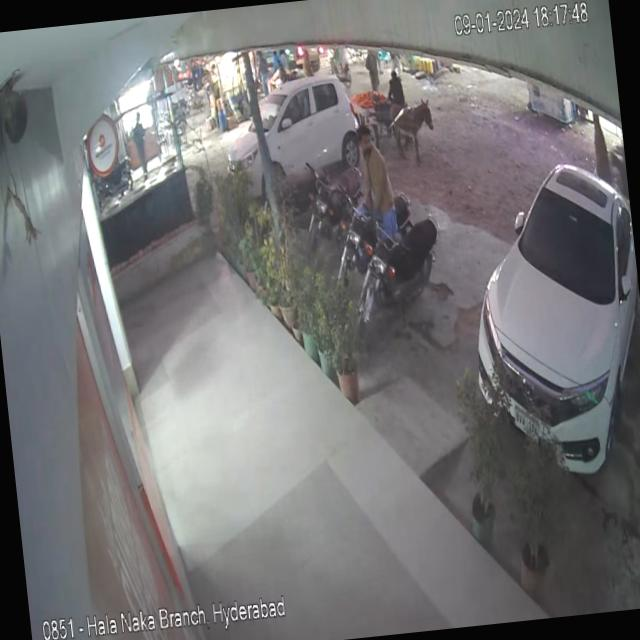Car: (450, 114, 640, 496), (198, 59, 368, 191)
Motorcycle: (340, 228, 458, 347), (318, 184, 424, 291), (302, 154, 374, 248)
